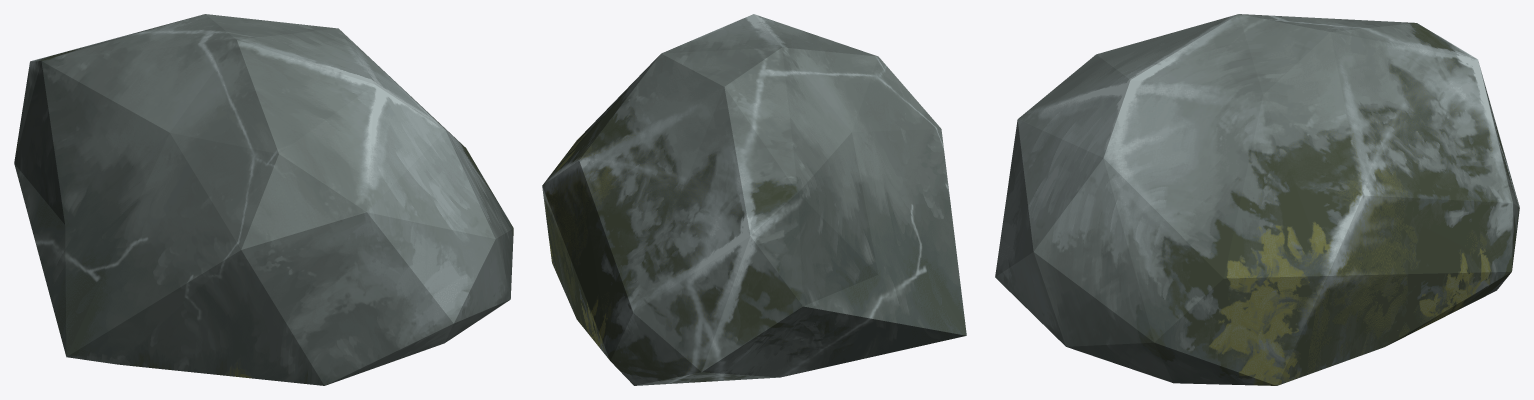
File: glaz_2.obj
3 renders of one model, left to right at view 1: azimuth 30°, elevation 25°; view 2: azimuth 150°, elevation 25°; view 3: azimuth 270°, elevation 25°, orthographic. The views are drawn at different scales.
Parts seen in each view (by area): view 1: rock.006; view 2: rock.006; view 3: rock.006.
Boxes of the visible parts, left/top/right/bottom form: rock.006: left=14, top=14, right=513, bottom=385; rock.006: left=542, top=14, right=966, bottom=385; rock.006: left=995, top=14, right=1519, bottom=385.
Bounding box in the file's own units: 12.06 × 7.33 × 13.2.
1 material, 1 textured.
